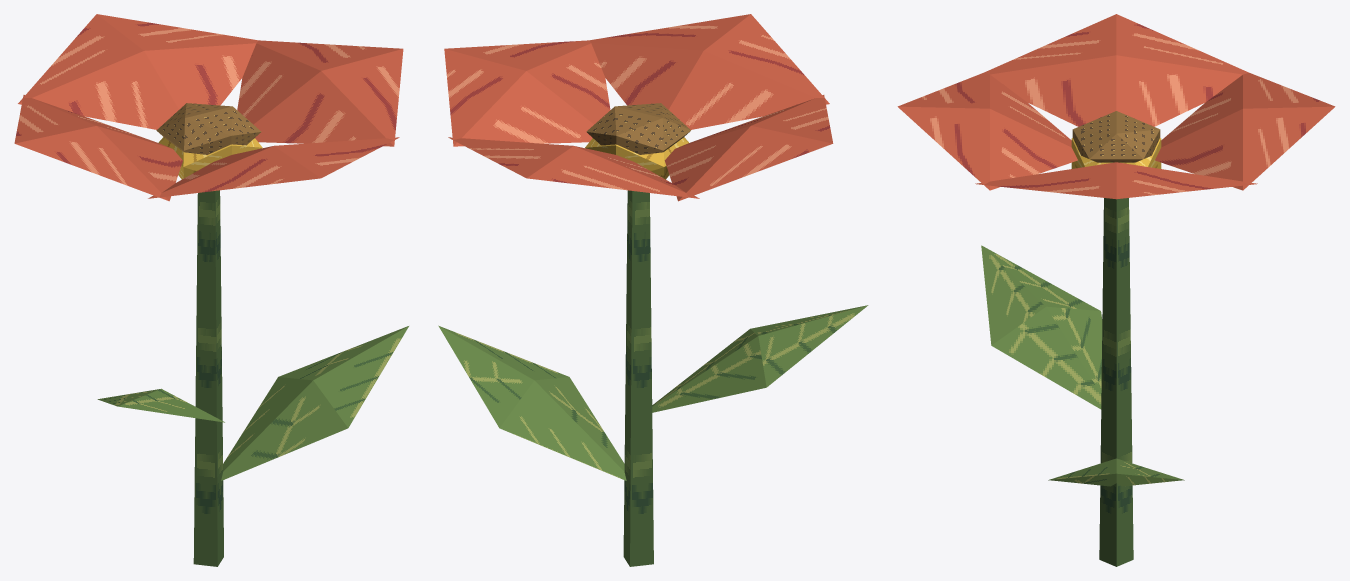
Rendered from flor-papoula-v01.gltf.
3 views of the same model, side by side, from view 1: azimuth 30°, elevation 25°; view 2: azimuth 150°, elevation 25°; view 3: azimuth 270°, elevation 25° (orthographic). The views are drawn at different scales.
Visible parts, largest first — view 1: petalas, folhas, hastes, miolo; view 2: petalas, folhas, hastes, miolo; view 3: petalas, folhas, hastes, miolo.
Part boxes in pixels (x1,y1,x2,y2): petalas: (14,14,403,201); folhas: (97,326,408,480); hastes: (193,190,223,566); miolo: (156,103,262,179); petalas: (444,14,833,201); folhas: (438,305,868,480); hastes: (623,190,653,566); miolo: (585,103,690,179); petalas: (897,14,1335,199); folhas: (981,245,1184,486); hastes: (1099,198,1133,566); miolo: (1071,111,1161,168).
Size of the model in its own units: 0.65 by 0.73 by 0.64.
Materials: 1 (1 with a texture image).
